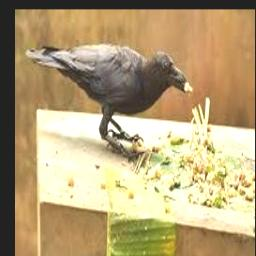Crow: (24, 43, 189, 148)
